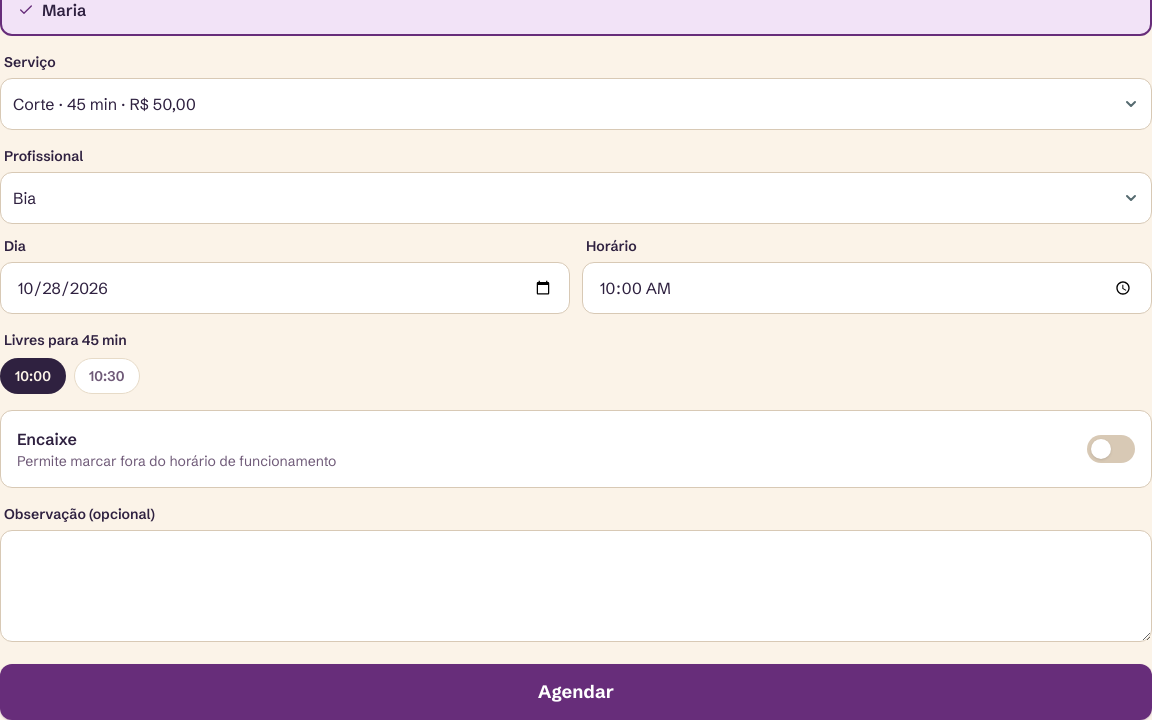
Test: NewAppointmentSheet › erro sem detalhe usa a mensagem padrão
(page scrolled)
Step 1. Click the button "Agendar" → (576, 692), box [0,664,1151,719]
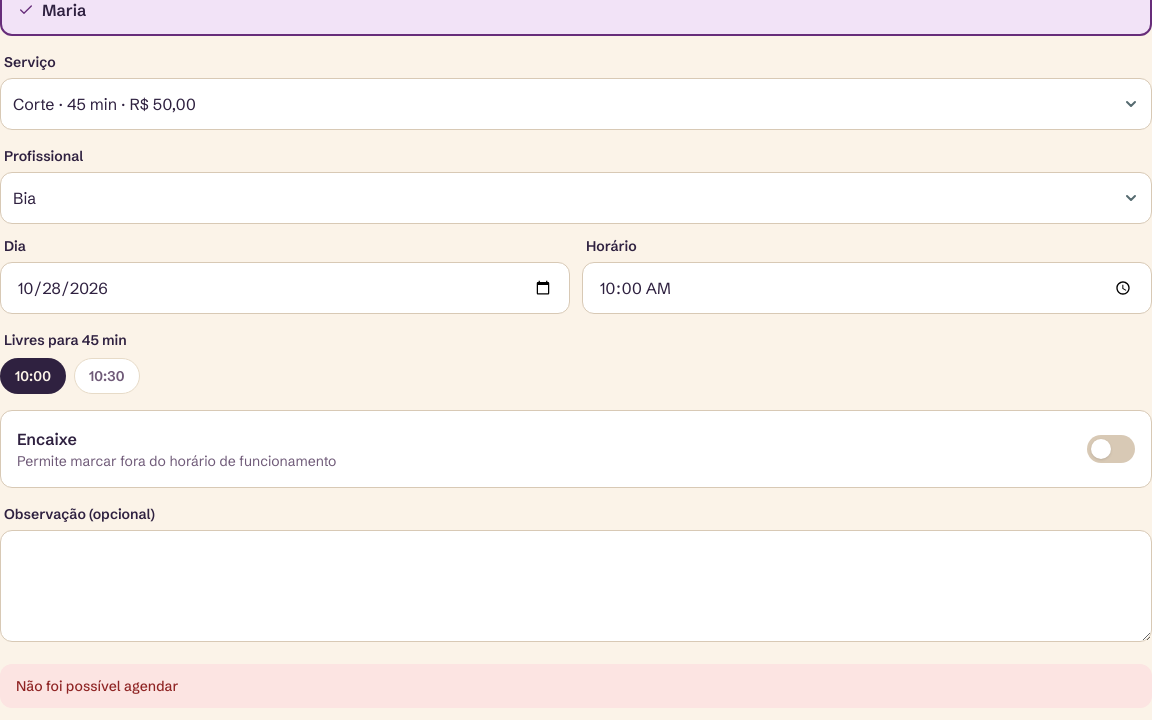
Expected: the message reads "Não foi possível agendar", [16,677,178,695]
